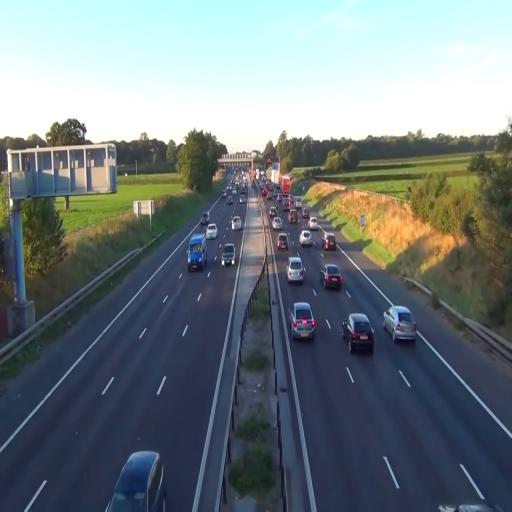vehicle: (104, 449, 166, 512), (342, 313, 375, 355), (384, 304, 416, 343), (290, 302, 316, 342), (392, 306, 418, 345), (186, 233, 208, 270), (286, 254, 306, 284), (322, 263, 342, 290), (221, 241, 235, 267), (299, 229, 313, 247), (323, 233, 336, 251)
